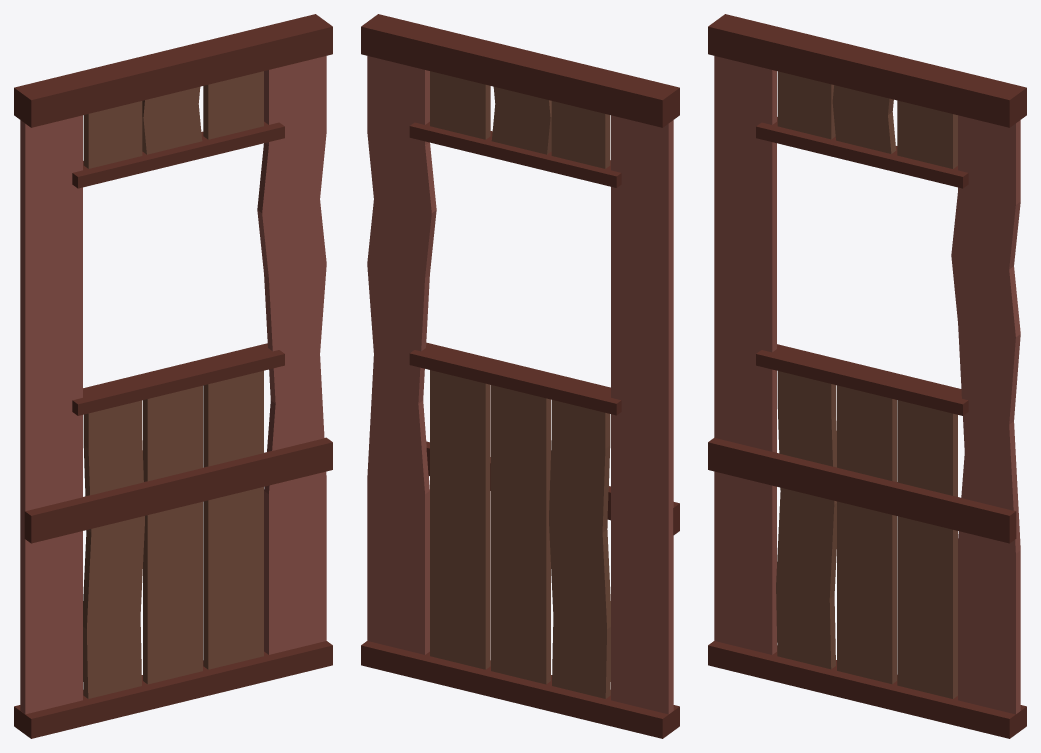
Rendered from ScrapWindow1.fbx.
The picture shows the model from 3 angles, left to right: view 1: azimuth 30°, elevation 25°; view 2: azimuth 150°, elevation 25°; view 3: azimuth 330°, elevation 25°; orthographic projection.
Visible parts, largest first — view 1: Cube; view 2: Cube; view 3: Cube.
Boxes of the visible parts, bbox=[...] form: Cube: bbox=[14, 14, 332, 738]; Cube: bbox=[361, 14, 679, 738]; Cube: bbox=[708, 14, 1026, 738].
Bounding box in the file's own units: 200 × 405 × 19.8.
